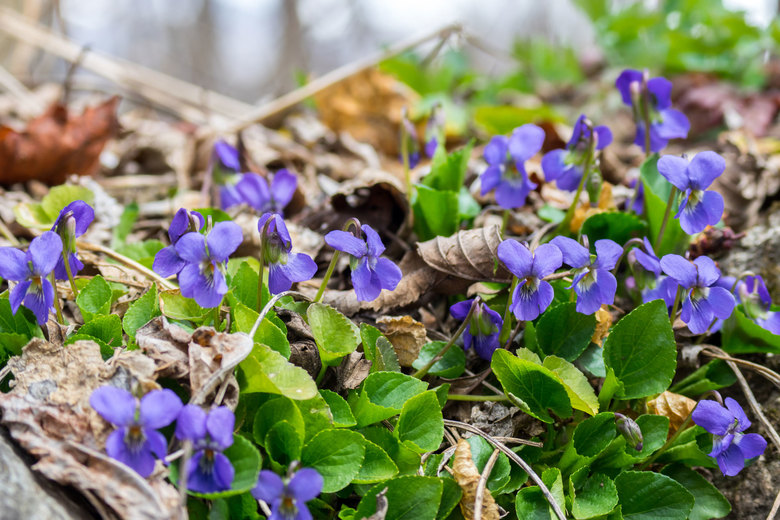violet: (88, 378, 175, 491), (655, 146, 731, 255), (320, 225, 412, 310), (170, 402, 248, 492), (560, 229, 633, 324), (654, 252, 737, 333), (694, 397, 769, 484), (161, 226, 239, 309), (499, 229, 567, 318), (1, 241, 69, 329), (448, 295, 510, 371)
